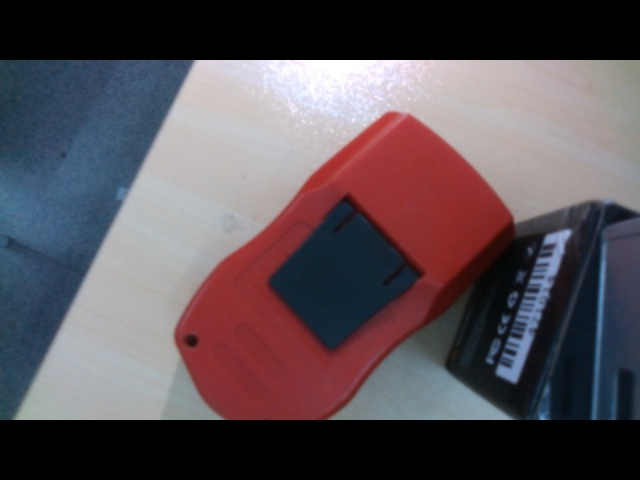Multimeter: (171, 109, 516, 421)
Screw holes: (183, 332, 200, 347)
